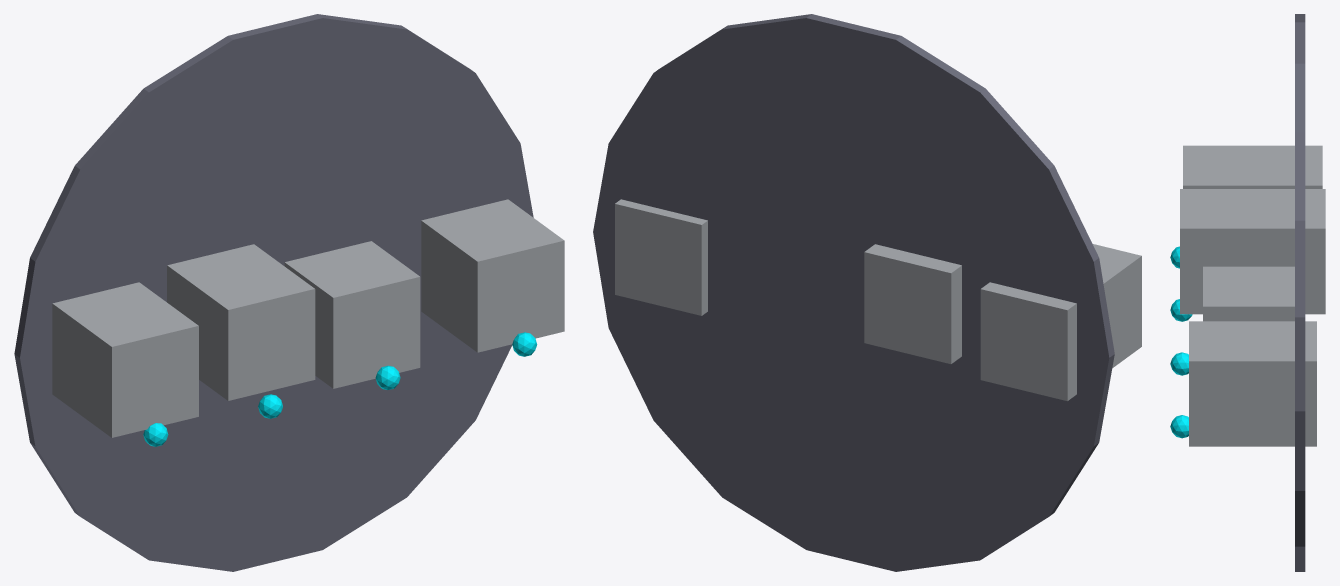
File: 04_event_hazard_cluster.glb
3 renders of one model, left to right at view 1: azimuth 30°, elevation 25°; view 2: azimuth 150°, elevation 25°; view 3: azimuth 270°, elevation 25°, orthographic. The views are drawn at different scales.
Parts seen in each view (by area): view 1: scatter_base, tech_crate_0, tech_crate_3, tech_crate_1, tech_crate_2; view 2: scatter_base, tech_crate_0, tech_crate_1, tech_crate_3; view 3: tech_crate_3, tech_crate_1, scatter_base, tech_crate_0, tech_crate_2, status_light_2, status_light_3, status_light_1.
Boxes of the visible parts, x1=… form: scatter_base: x1=14, y1=14, x2=533, y2=571; tech_crate_0: x1=52, y1=282, x2=198, y2=437; tech_crate_3: x1=421, y1=199, x2=564, y2=352; tech_crate_1: x1=167, y1=244, x2=315, y2=400; tech_crate_2: x1=284, y1=241, x2=420, y2=388; scatter_base: x1=593, y1=14, x2=1114, y2=571; tech_crate_0: x1=980, y1=244, x2=1141, y2=401; tech_crate_1: x1=864, y1=244, x2=961, y2=363; tech_crate_3: x1=615, y1=199, x2=707, y2=315; tech_crate_3: x1=1189, y1=321, x2=1316, y2=446; tech_crate_1: x1=1180, y1=189, x2=1325, y2=314; scatter_base: x1=1295, y1=14, x2=1305, y2=571; tech_crate_0: x1=1183, y1=145, x2=1322, y2=188; tech_crate_2: x1=1203, y1=266, x2=1294, y2=321; status_light_2: x1=1170, y1=352, x2=1188, y2=375; status_light_3: x1=1170, y1=415, x2=1188, y2=438; status_light_1: x1=1170, y1=299, x2=1192, y2=321.
Size of the model in its own units: 1.9 by 1.87 by 0.5269.
